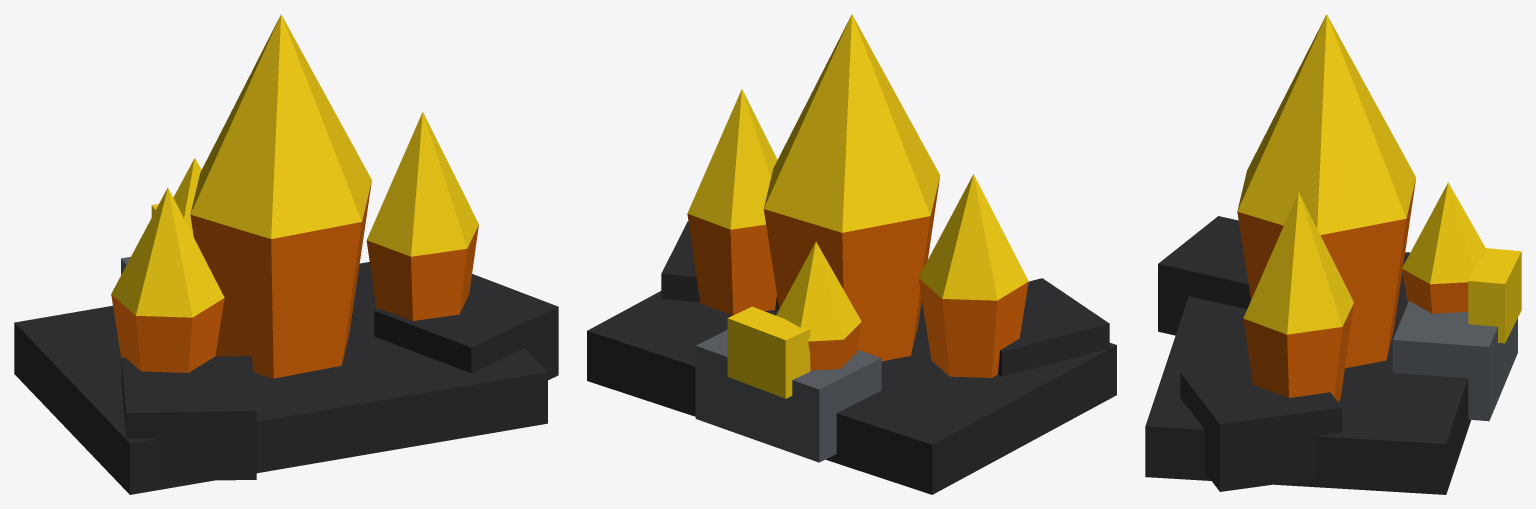
The model's file is RTS_Mineral.obj.
3 views of the same model, side by side, from view 1: azimuth 30°, elevation 25°; view 2: azimuth 150°, elevation 25°; view 3: azimuth 270°, elevation 25° (orthographic). The views are drawn at different scales.
Parts seen in each view (by area): view 1: RTS_Mineral; view 2: RTS_Mineral; view 3: RTS_Mineral.
Boxes of the visible parts, left/top/right/bottom form: RTS_Mineral: left=14, top=14, right=558, bottom=494; RTS_Mineral: left=587, top=14, right=1116, bottom=494; RTS_Mineral: left=1145, top=14, right=1521, bottom=494.
Bounding box in the file's own units: 2.12 × 1.79 × 1.61.
